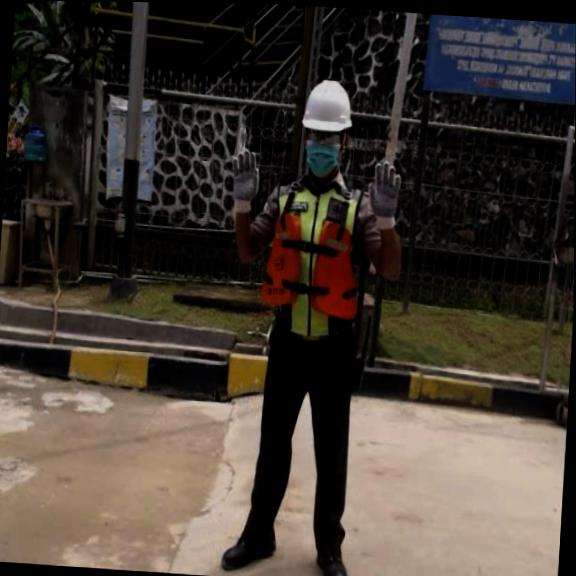safety_vest: (256, 213, 360, 320)
